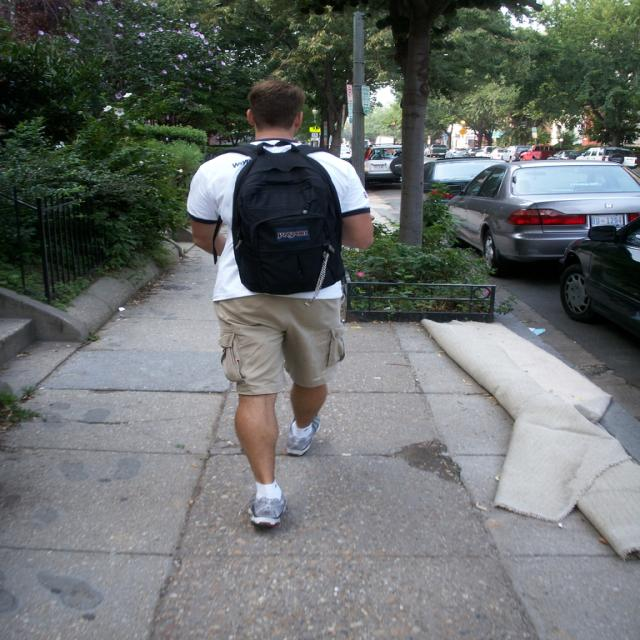backpack: (211, 142, 348, 290)
